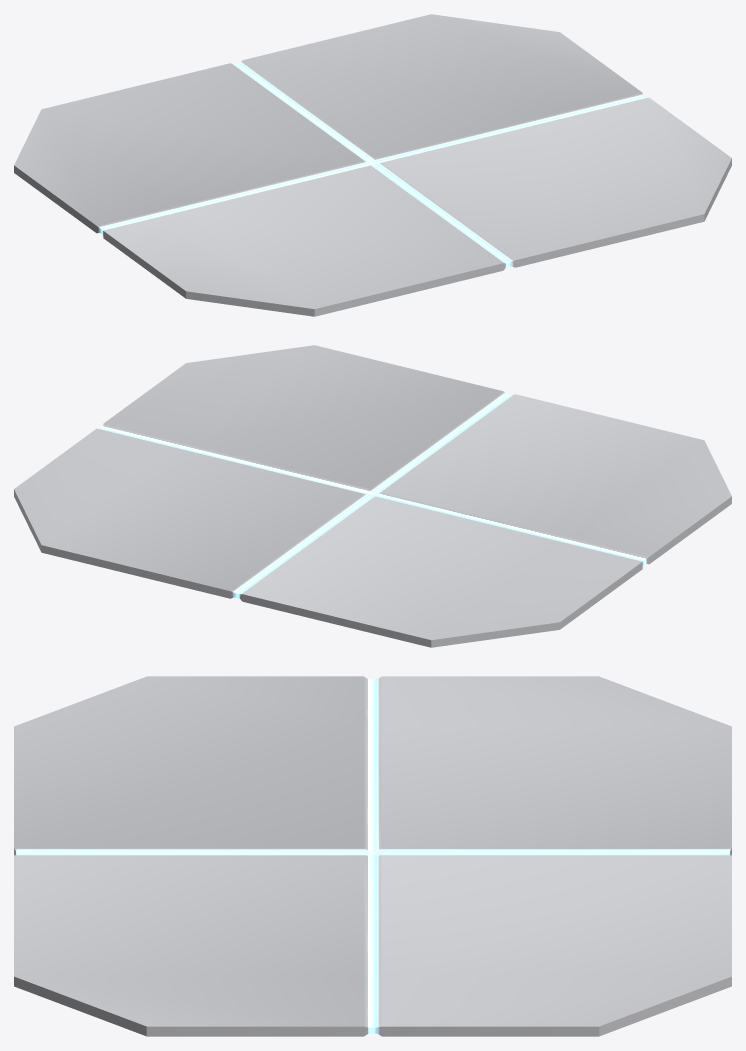
File: platform_GSpot.glb
3 renders of one model, top to bottom at view 1: azimuth 30°, elevation 25°; view 2: azimuth 150°, elevation 25°; view 3: azimuth 270°, elevation 25°, orthographic. The views are drawn at different scales.
Visible parts, largest first — view 1: Platform; view 2: Platform; view 3: Platform.
Boxes of the visible parts, x1=… form: Platform: x1=14, y1=14, x2=731, y2=316; Platform: x1=14, y1=345, x2=731, y2=647; Platform: x1=14, y1=676, x2=731, y2=1036.
Size of what is drawn, in the model's own units: 6.21 by 0.0823 by 5.39.
Materials: 1 (1 with a texture image).
